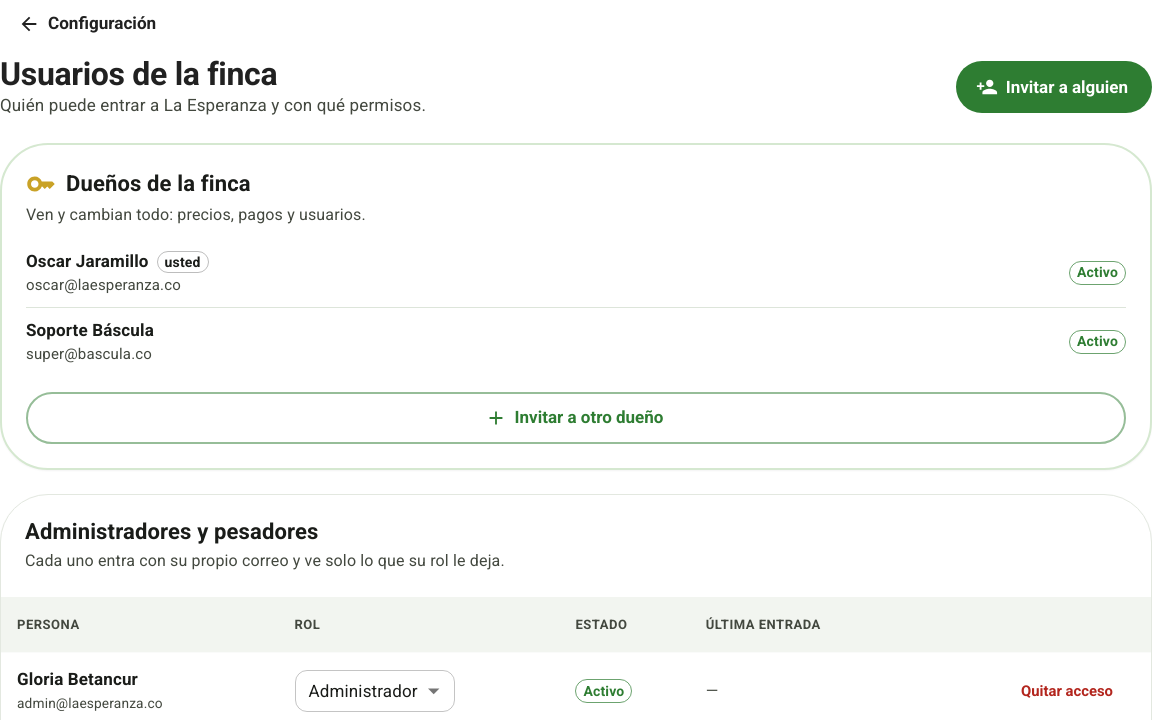
inviting somebody › removing access deletes nobody, and says so
Step 1. Click the button "Quitar acceso" → (1067, 691), box x1=999 y1=667 x2=1135 y2=715
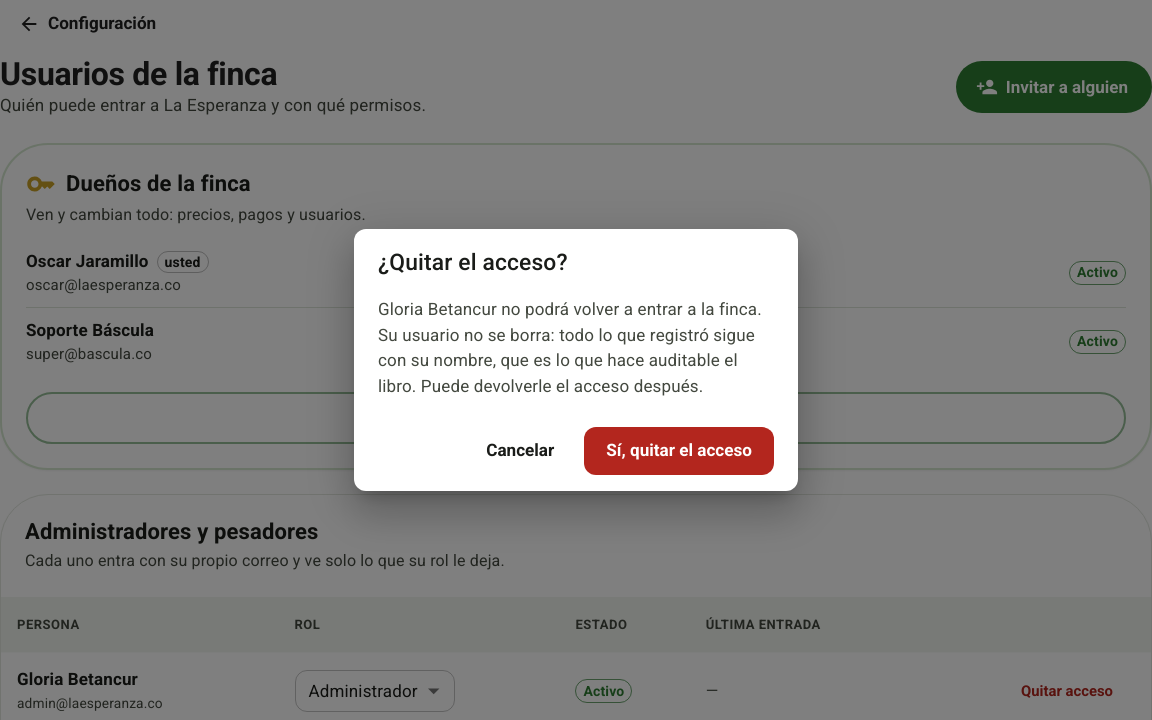
Check: the text "todo lo que registró sigue con su nombre" is shown, box x1=378 y1=299 x2=762 y2=396
Step 2. Click the button "Sí, quitar el acceso" → (679, 451), box x1=584 y1=427 x2=774 y2=475
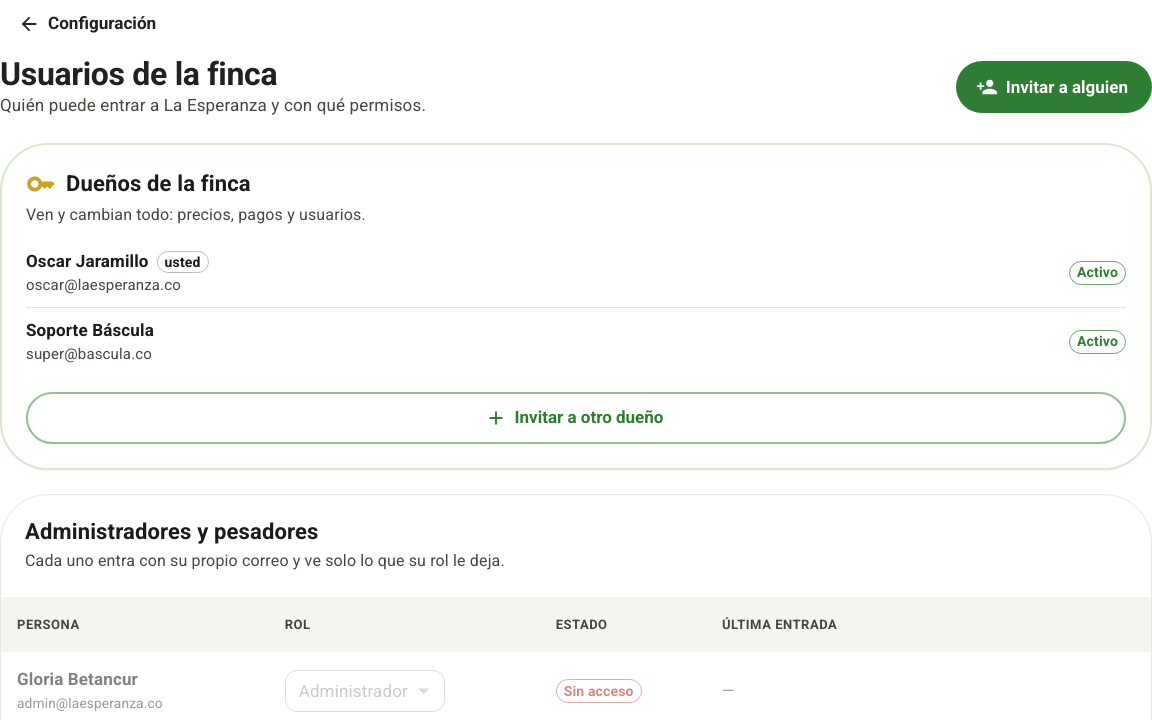
Check: the text "Gloria Betancur" is shown, box x1=17 y1=669 x2=138 y2=689
Check: the text "Sin acceso" is shown, box x1=564 y1=683 x2=634 y2=699
